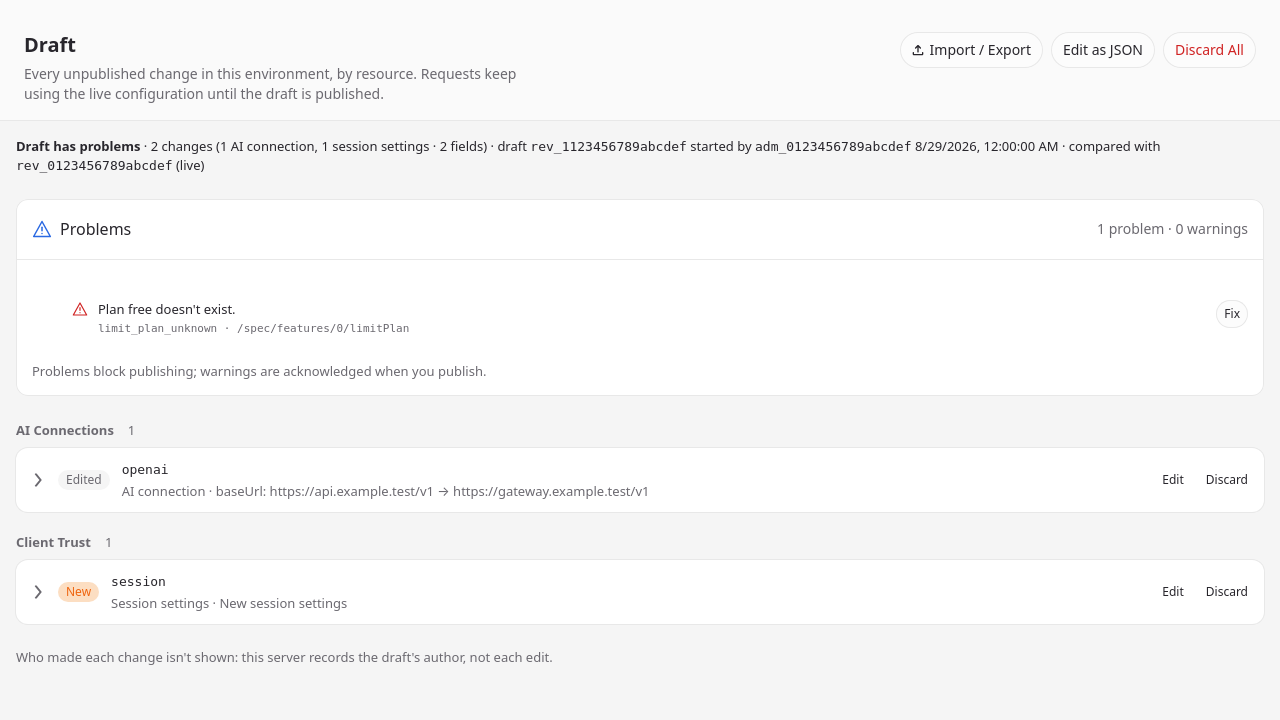
Test case: Changes → Draft › discards everything back to exactly the live document after confirming
Click the button "Discard All".
click(1210, 50)  # box [1163,32,1256,68]
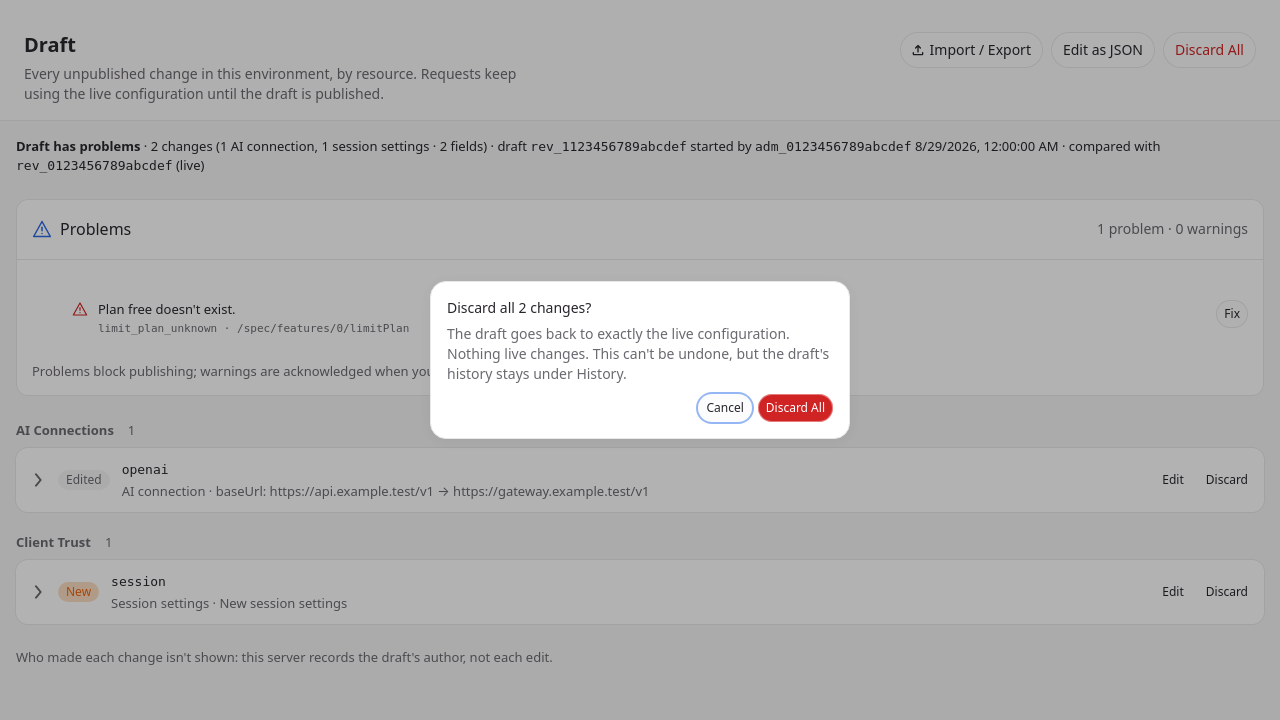
Click the button "Discard All".
click(795, 408)  # box [758,394,833,422]
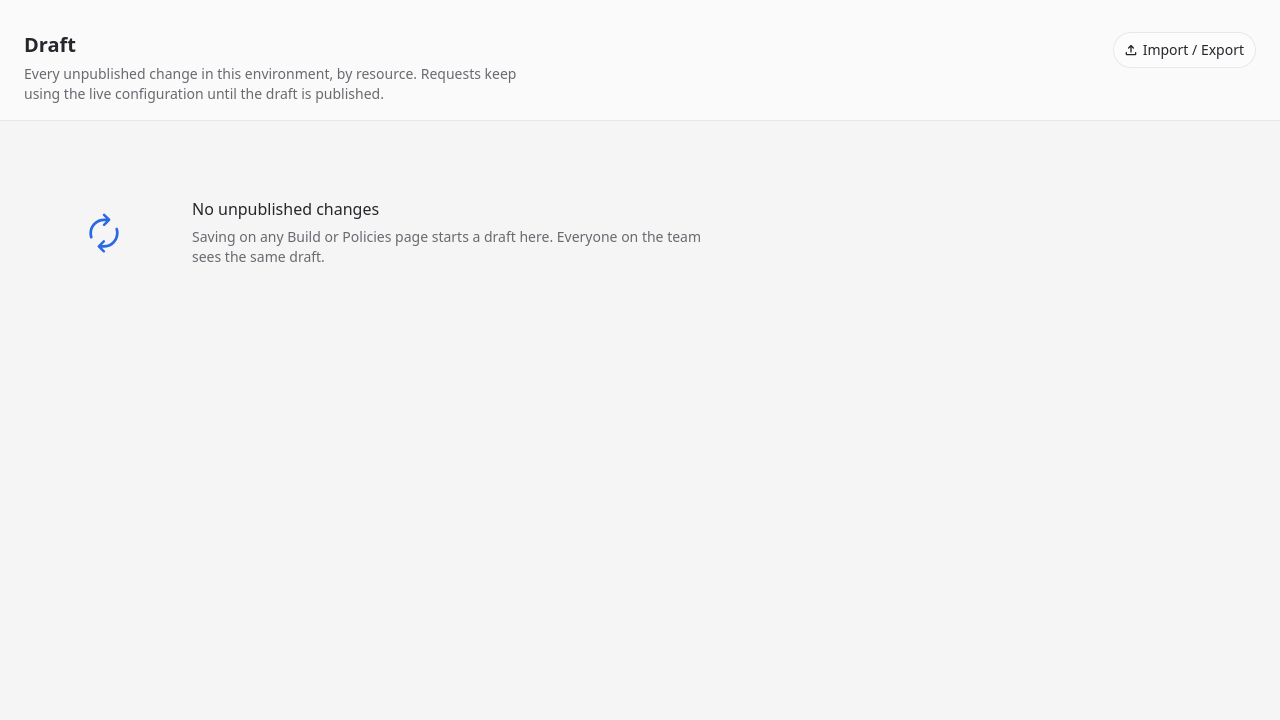
Result: the text "No unpublished changes" is shown at [192,198,379,220]
